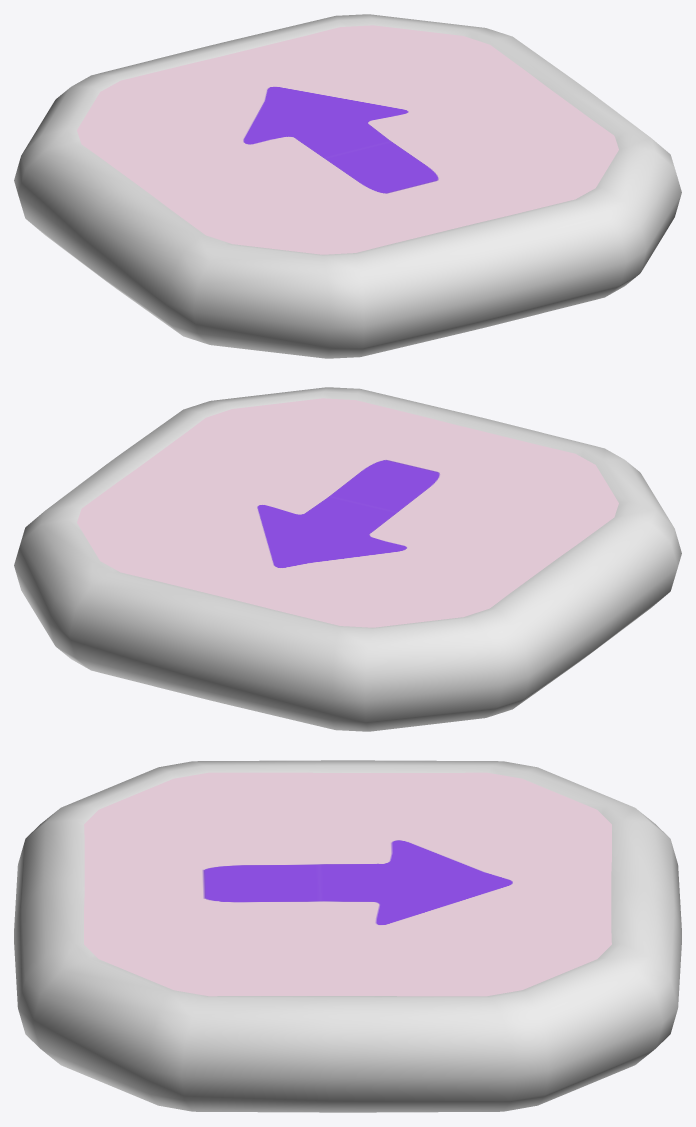
Rendered from bridge.fbx.
3 views of the same model, one above another, from view 1: azimuth 30°, elevation 25°; view 2: azimuth 150°, elevation 25°; view 3: azimuth 270°, elevation 25° (orthographic). The views are drawn at different scales.
Visible parts, largest first — view 1: bridgetop, bridgefloatie_lp; view 2: bridgetop, bridgefloatie_lp; view 3: bridgetop, bridgefloatie_lp.
Boxes of the visible parts, left/top/right/bottom form: bridgetop: left=77, top=25, right=618, bottom=254; bridgefloatie_lp: left=14, top=14, right=681, bottom=358; bridgetop: left=77, top=398, right=618, bottom=627; bridgefloatie_lp: left=14, top=387, right=681, bottom=731; bridgetop: left=84, top=772, right=611, bottom=996; bridgefloatie_lp: left=14, top=760, right=681, bottom=1112.
Size of the model in its own units: 974 by 176 by 972.
